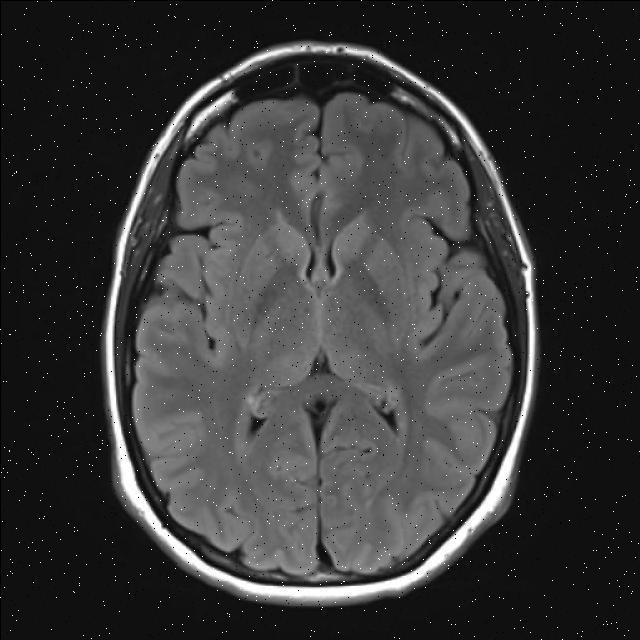No_Tumor: (104, 41, 535, 604)
